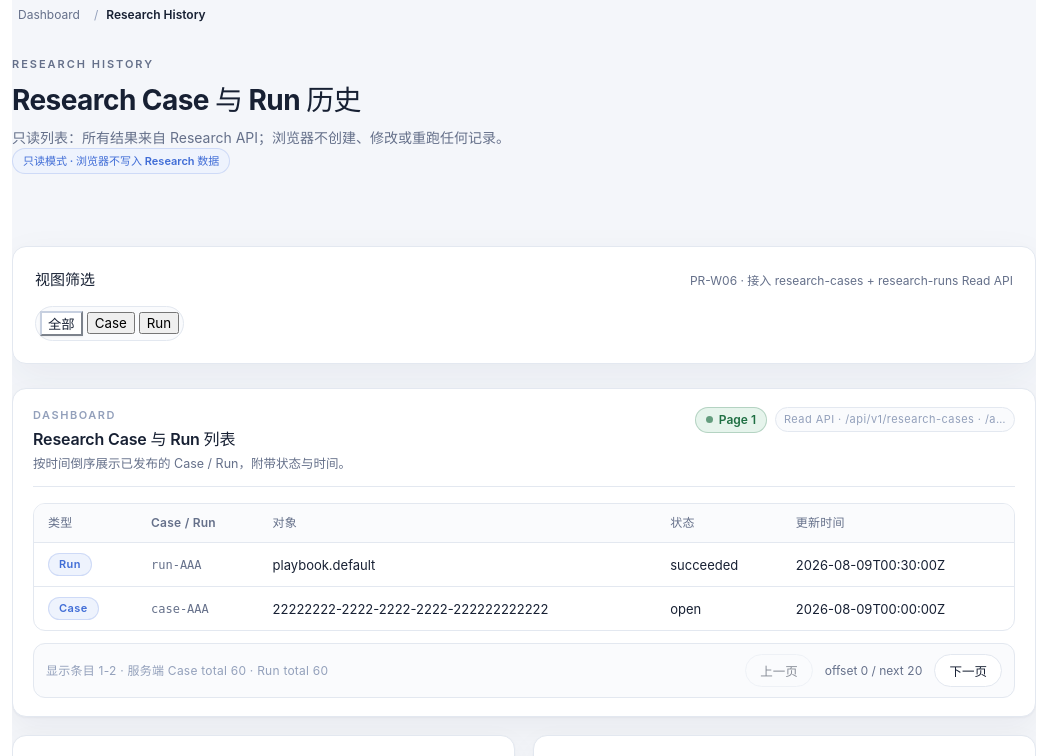
Scenario: ResearchHistoryPage pagination › returns to the previous page when previous is clicked
The image size is (1048, 756).
What coordinates should you click on to do the following:
click the button "下一页"
I would click on:
 (968, 671)
Its box is [934,654,1002,687].
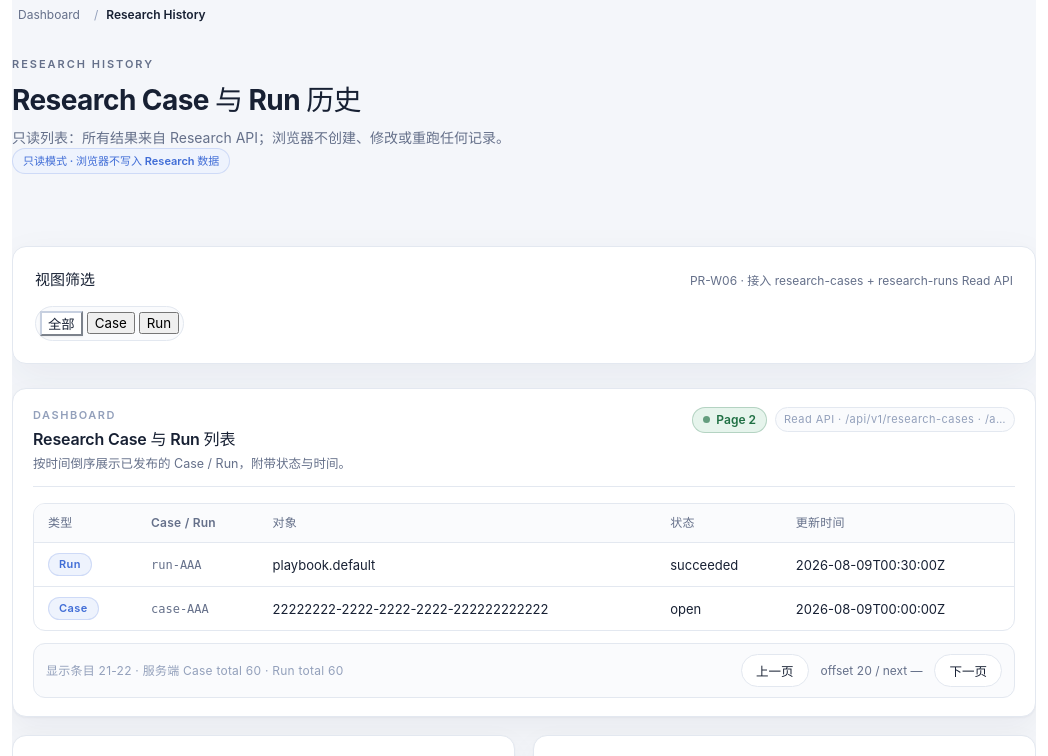
Expected: the text "offset 20 / next —" is shown, [821,662,922,680]
What coordinates should you click on to do the following:
click the button "上一页"
I would click on:
 (775, 671)
Its box is [741,654,808,687].
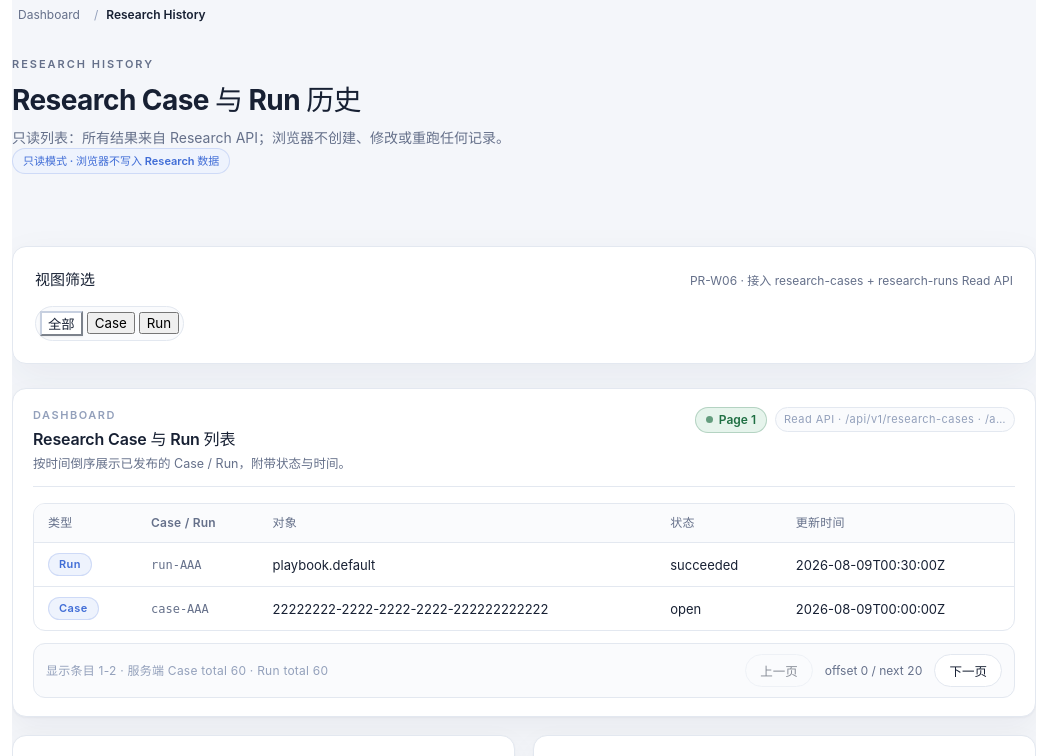
Expected: the text "offset 0 / next 20" is shown, [825,662,922,680]
